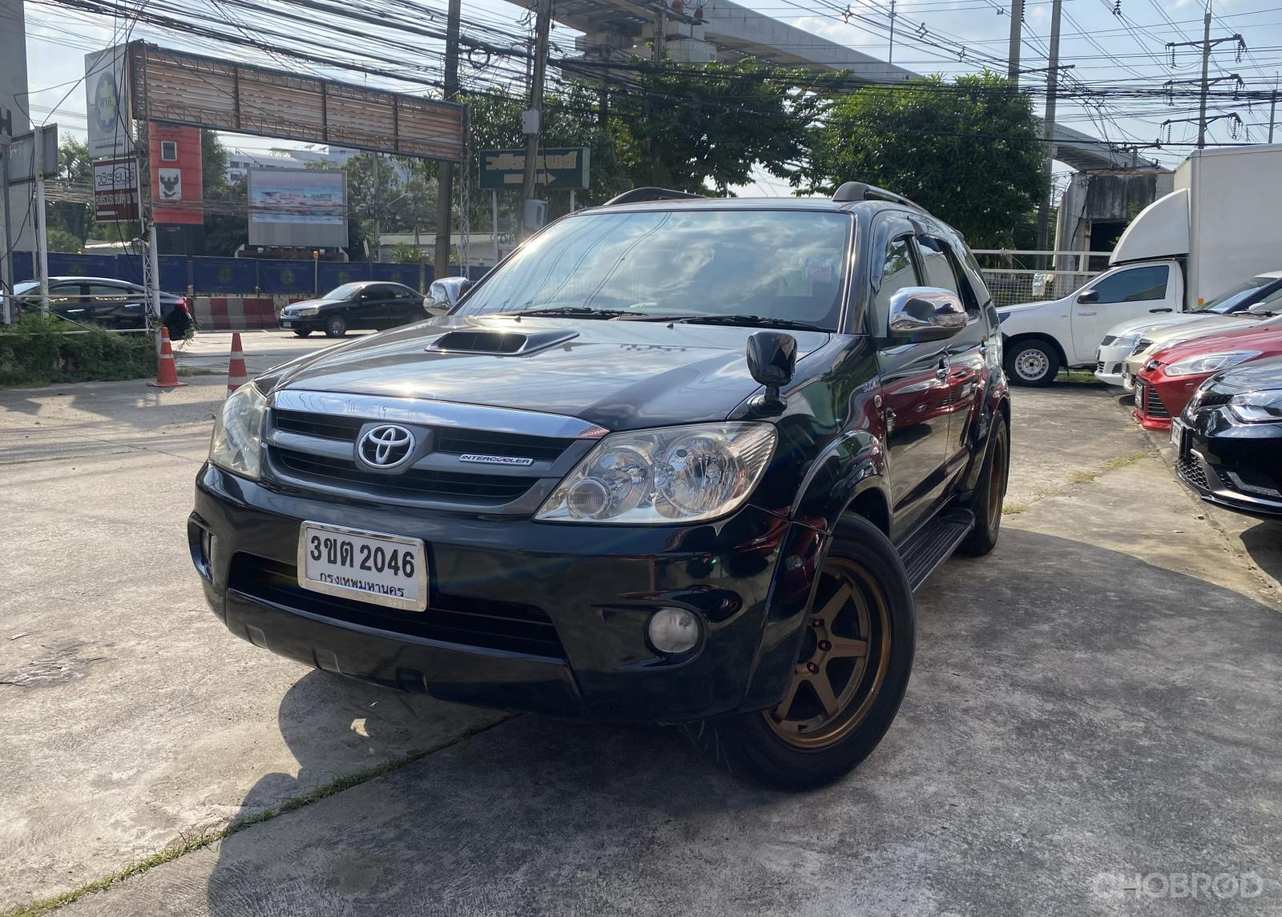license-plate: (293, 518, 431, 615)
